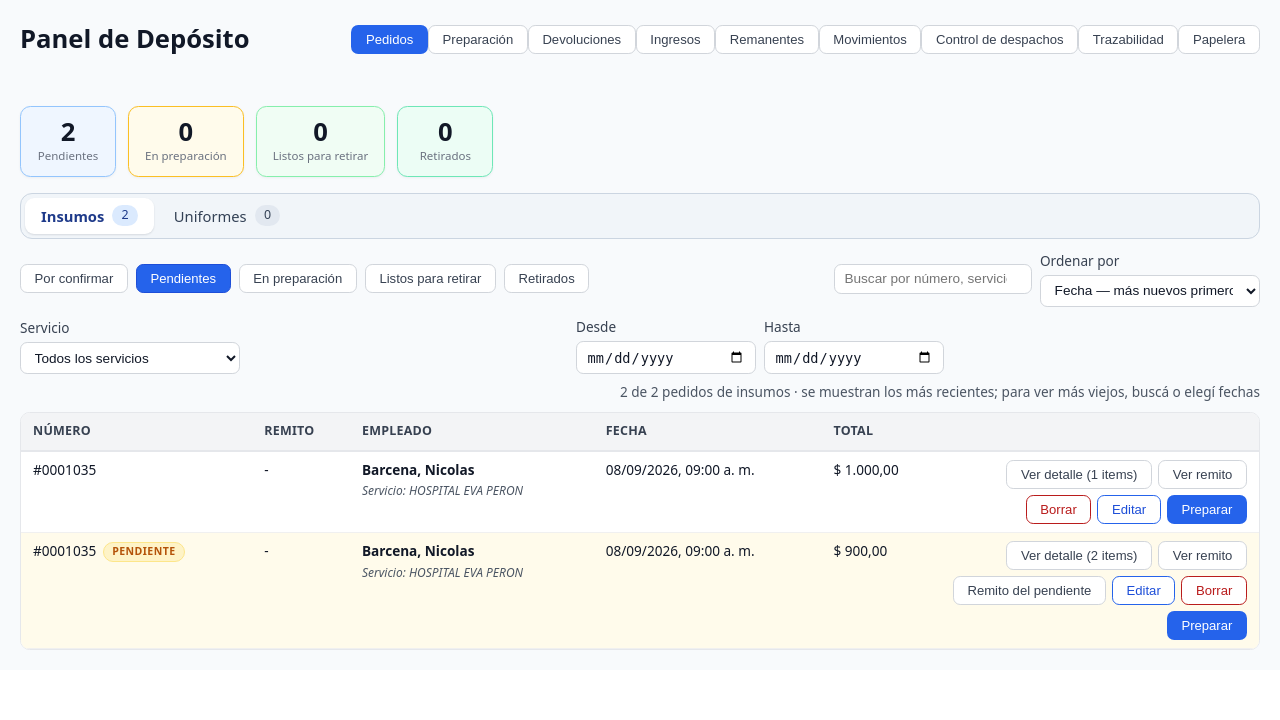
Test: Depósito — borrar lo pendiente › si el servidor no deja, muestra el motivo y la tarjeta queda
This screenshot has width=1280, height=720.
Click the button with aria-label "Borrar lo pendiente del pedido 0001035" at (1214, 591), box [1181,576,1247,605]
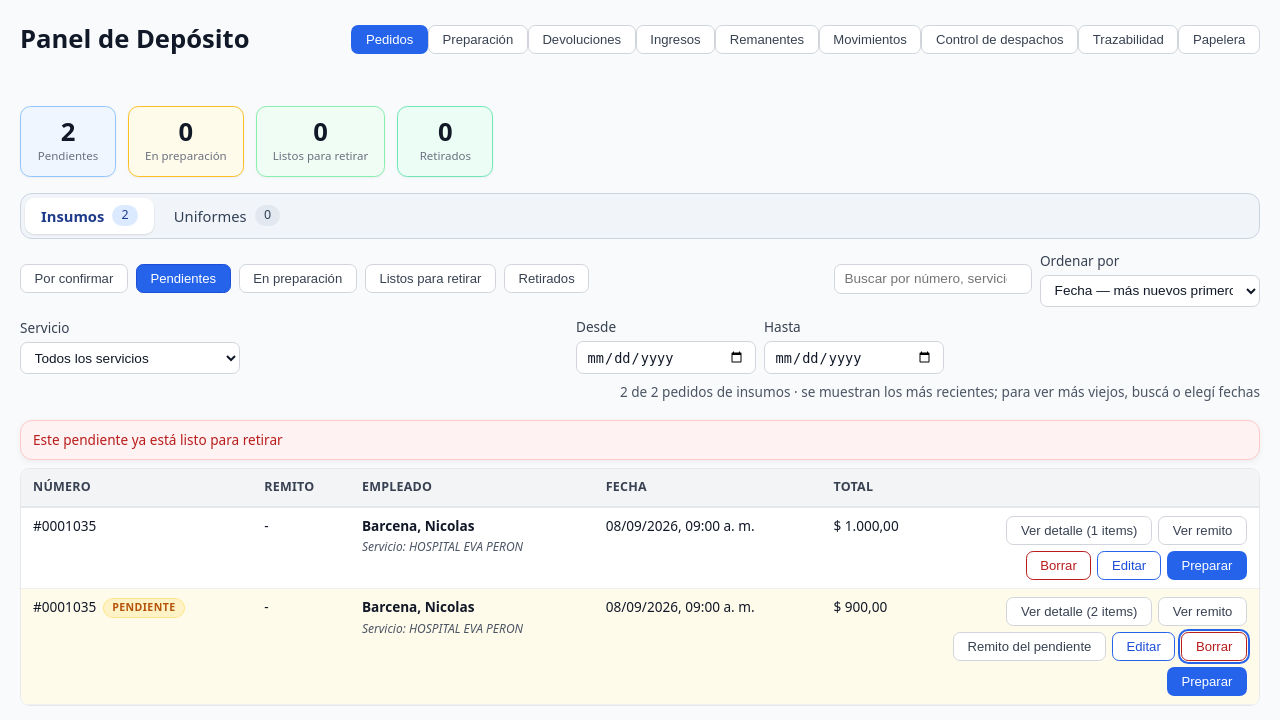
Expected: the text "pendiente" is shown, [112,600,176,614]
Now the text "Este pendiente ya está listo para retirar" is shown, box [20,420,1260,460]
